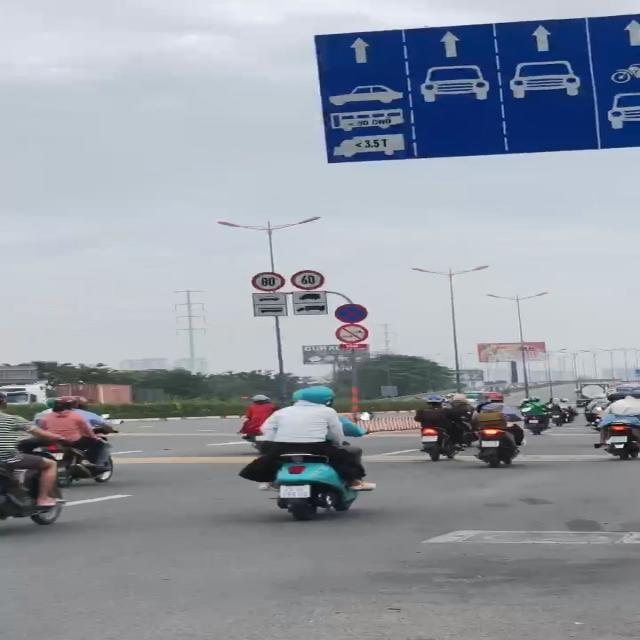Bien bao cam dung xe va do xe: (334, 302, 368, 323)
Bien bao toc do toi da cho phep: (290, 270, 326, 291), (251, 271, 286, 291)
